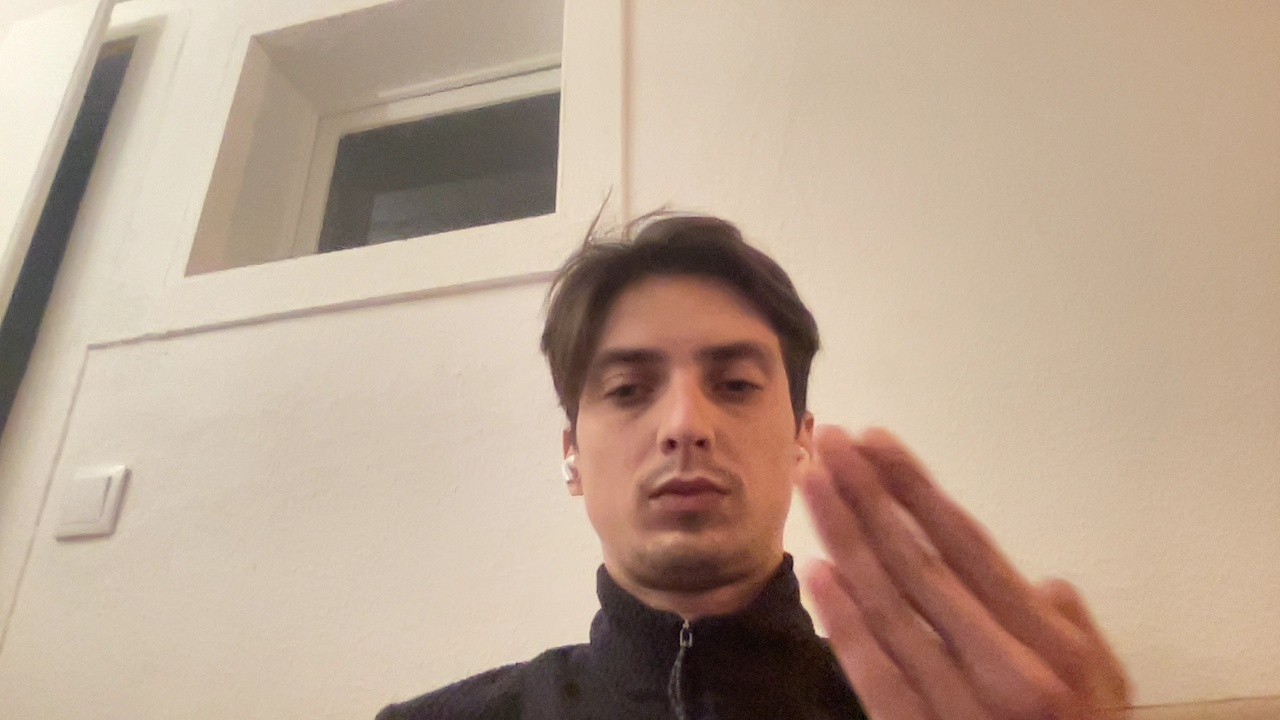Thank you: (707, 413, 1146, 720)
